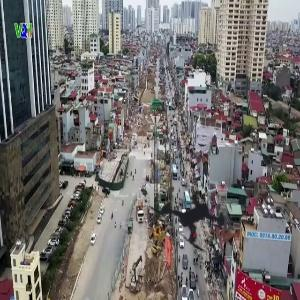drone: (129, 157, 257, 285)
